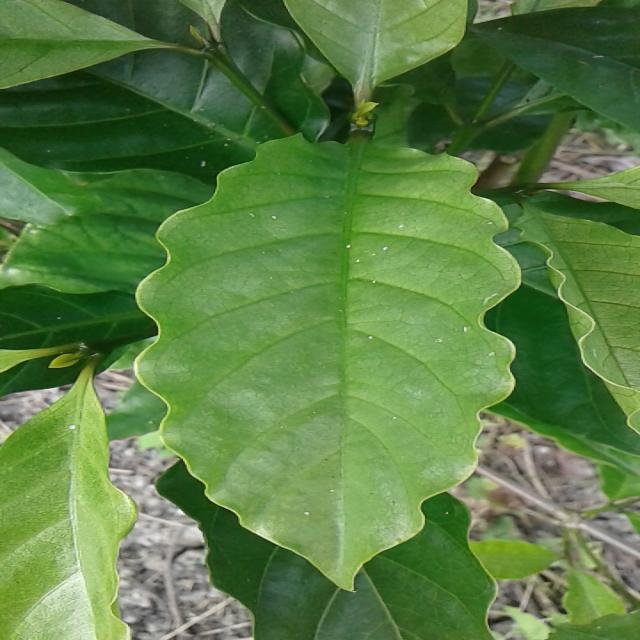Sanas: (132, 135, 524, 594)
